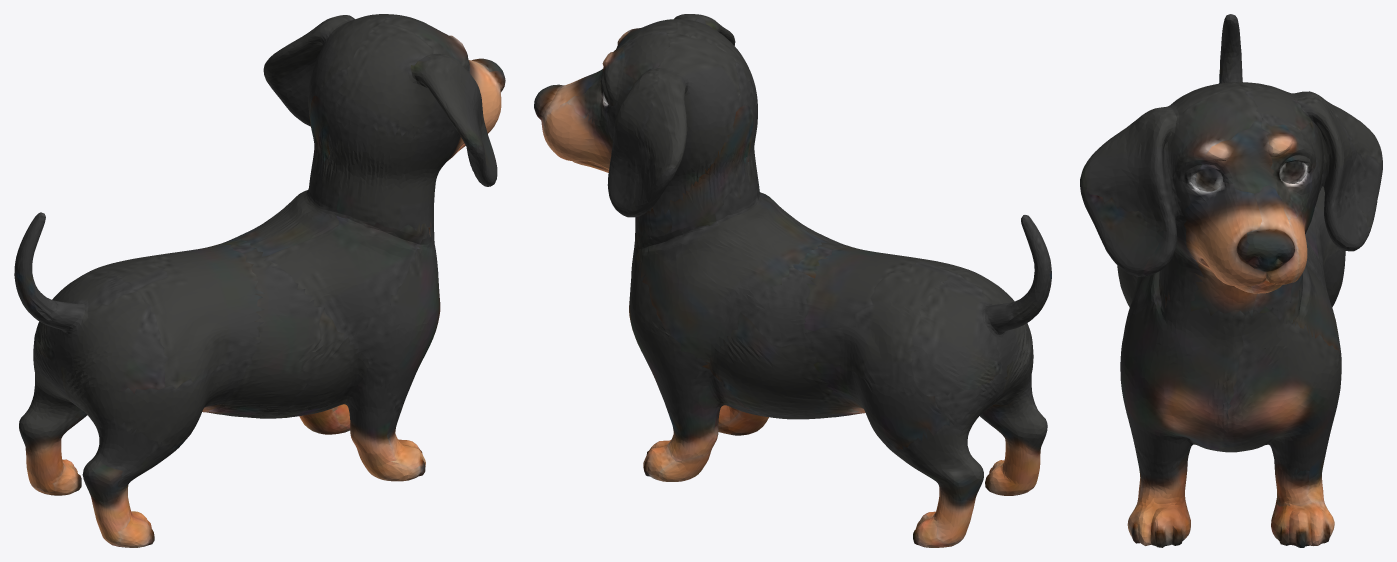
File: black_sausage_dog_cute_stylized_pet_animal_game.glb
3 renders of one model, left to right at view 1: azimuth 30°, elevation 25°; view 2: azimuth 150°, elevation 25°; view 3: azimuth 270°, elevation 25°, orthographic. The views are drawn at different scales.
Visible parts, largest first — view 1: tripo_node_29d870b0; view 2: tripo_node_29d870b0; view 3: tripo_node_29d870b0.
Part boxes in pixels (box(x1,y1,x2,y2)): tripo_node_29d870b0: box(14, 14, 505, 547); tripo_node_29d870b0: box(534, 14, 1051, 547); tripo_node_29d870b0: box(1080, 14, 1382, 547).
Bounding box in the file's own units: 0.9994 × 0.7992 × 0.4755.
1 material, 1 textured.
